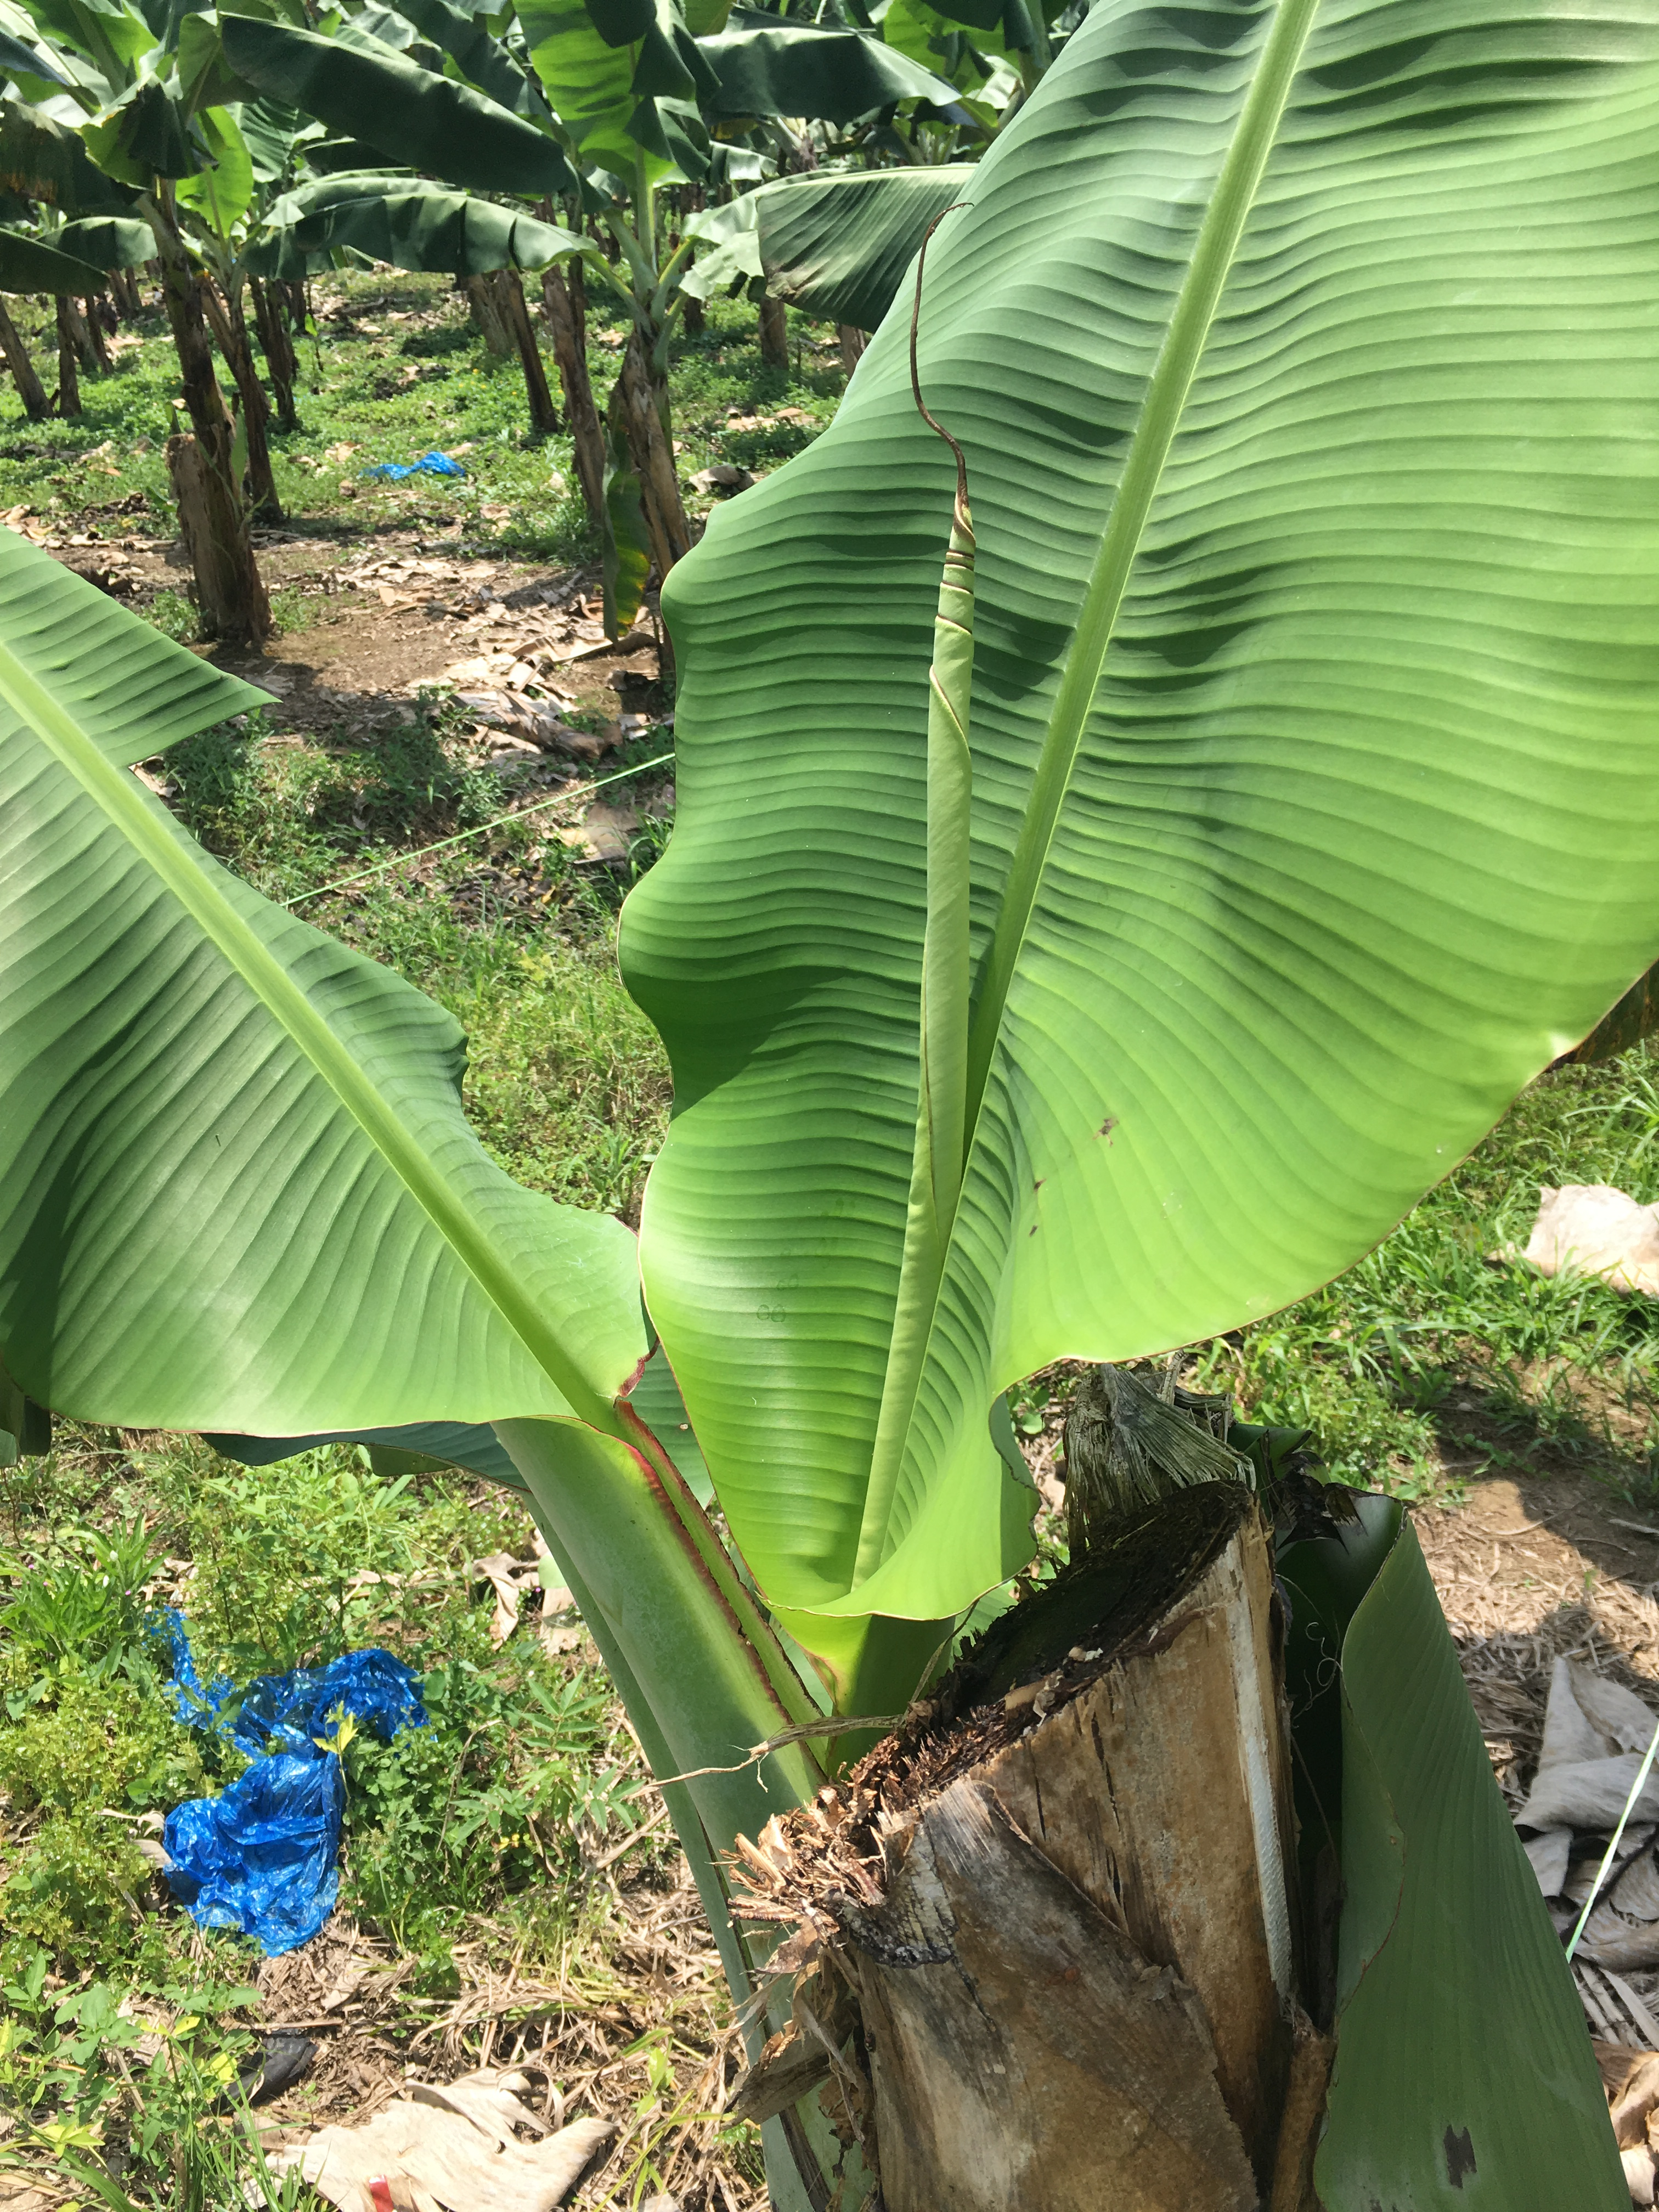candleleafs: (850, 202, 981, 1604)
